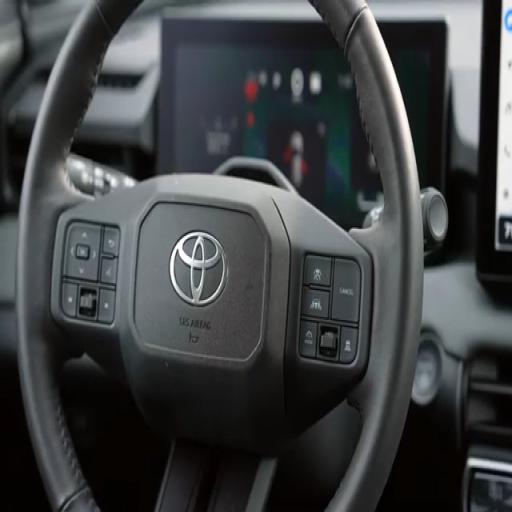emblem: (170, 232, 227, 305)
